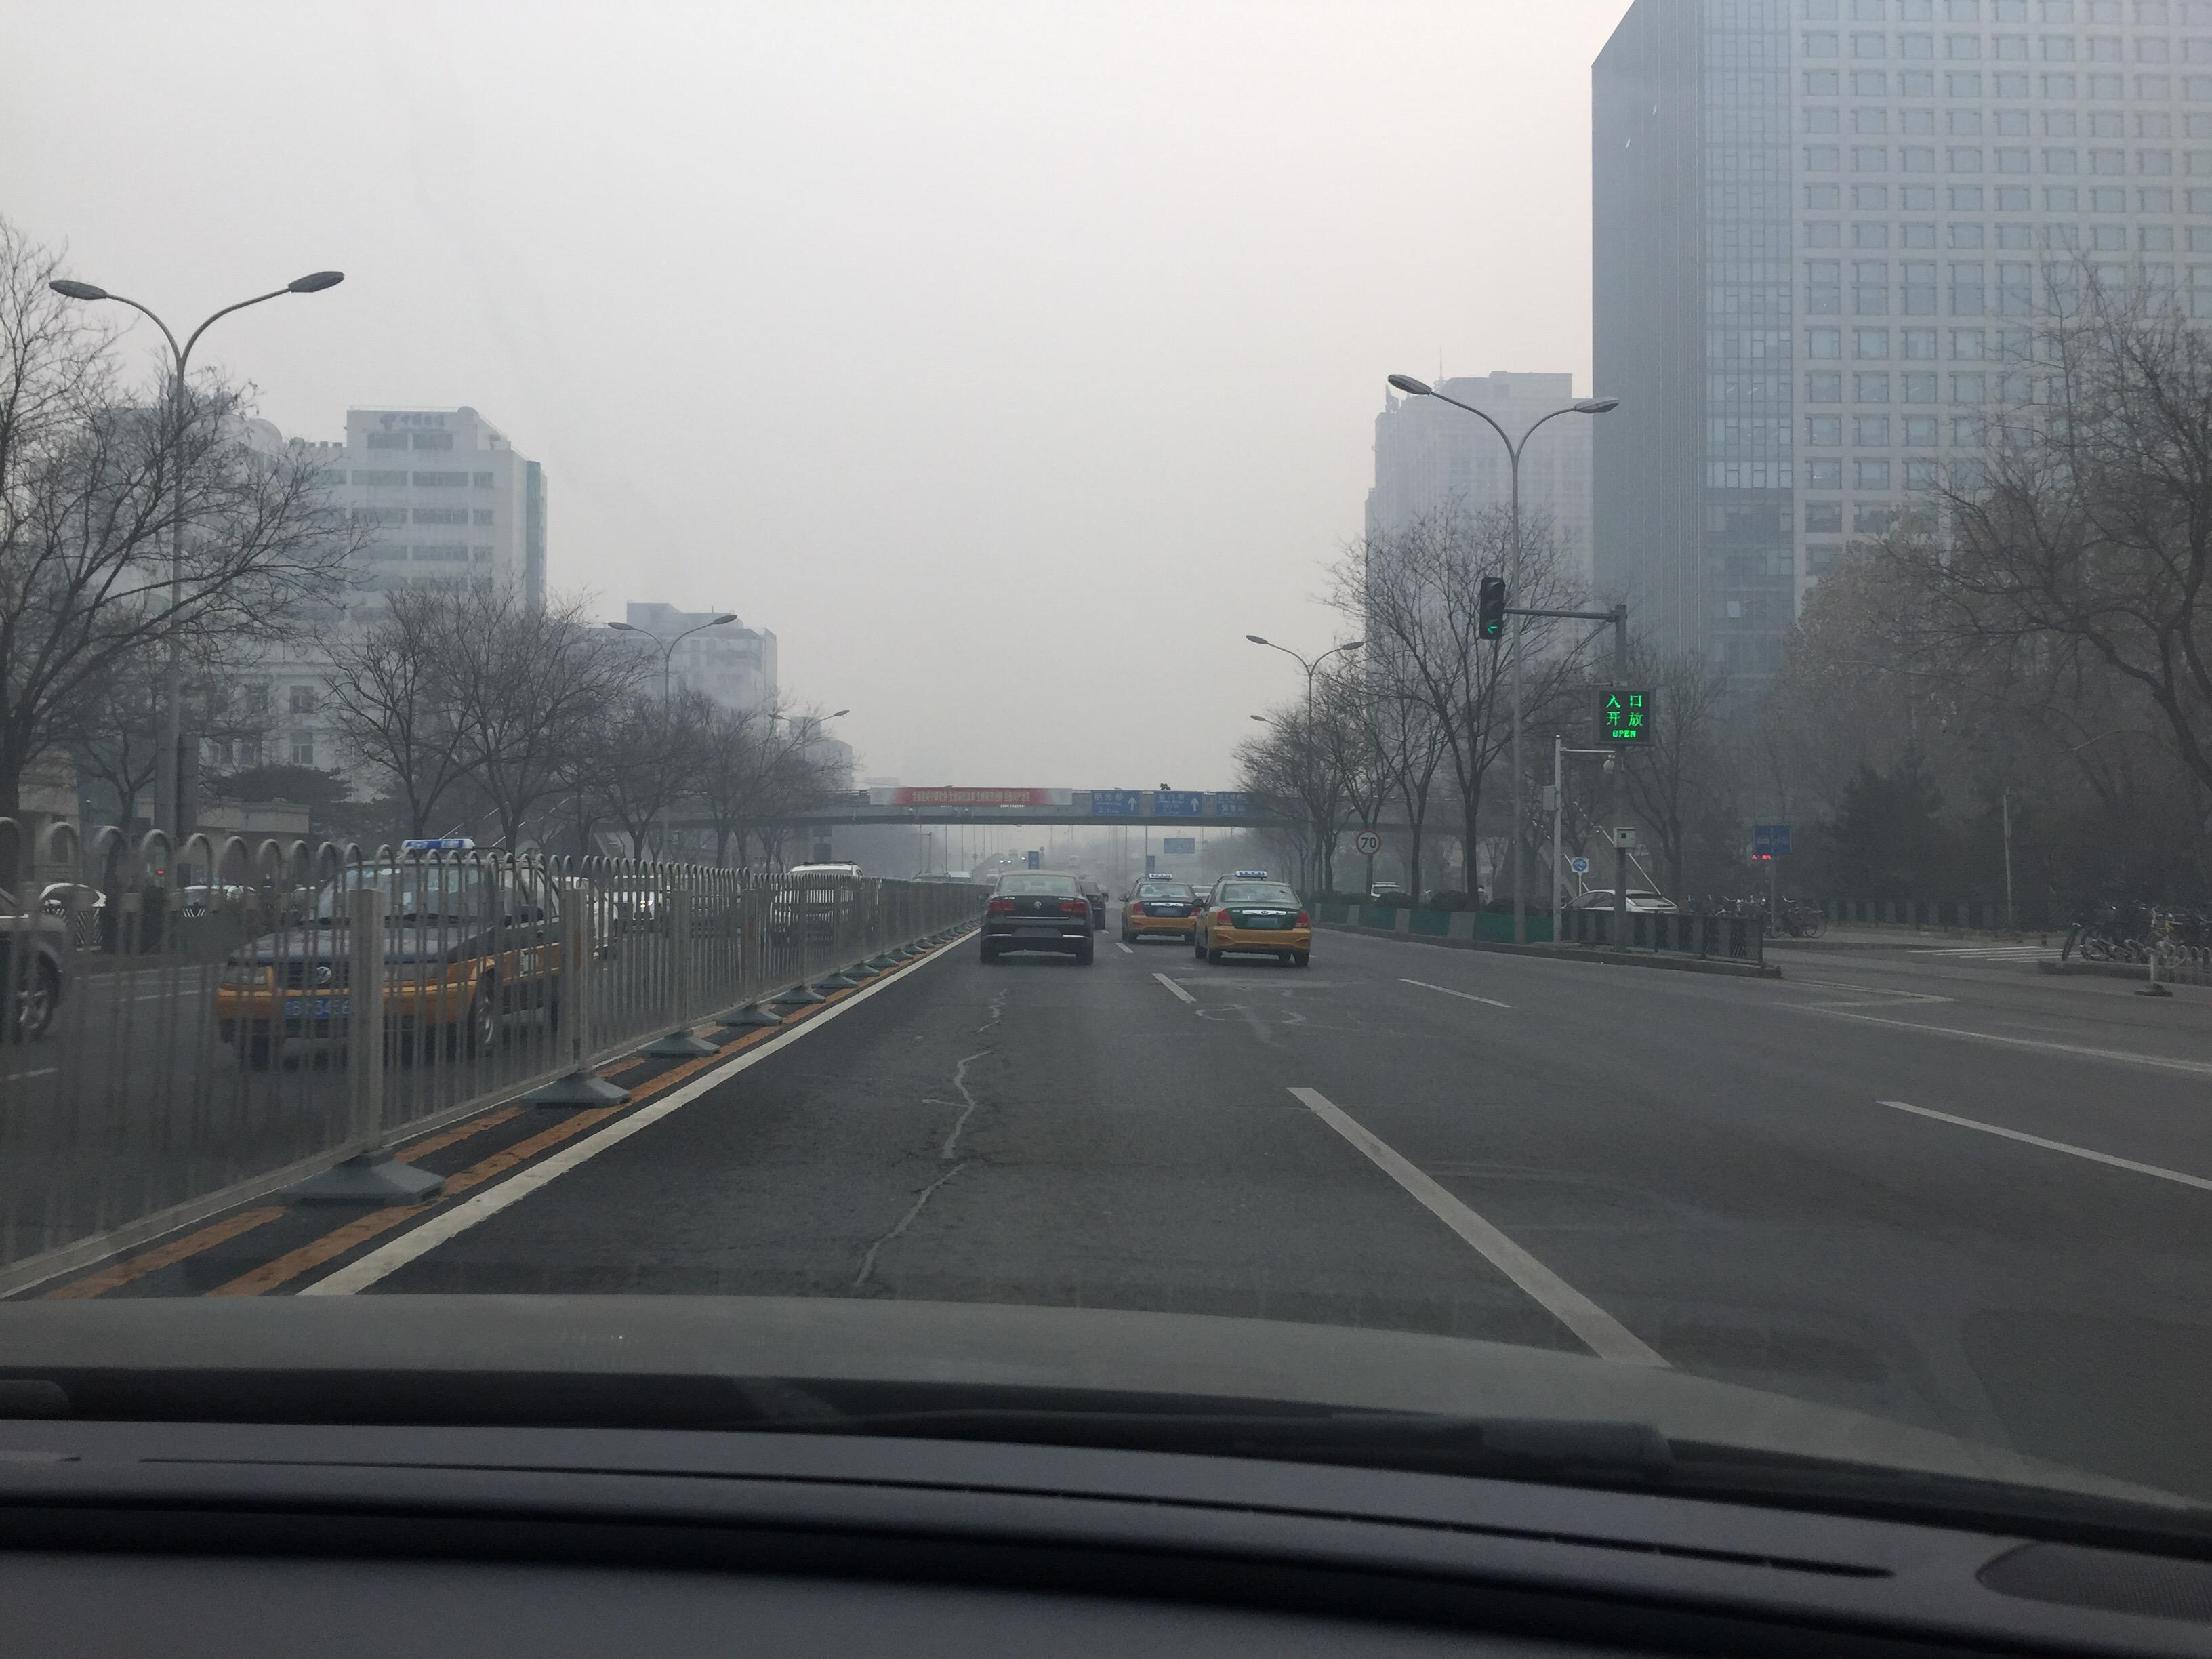vinyl banner: (855, 775, 1087, 810)
